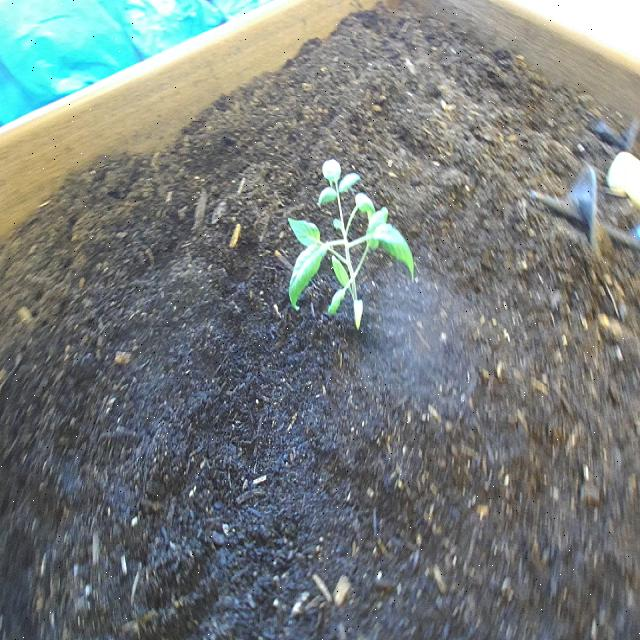Healthy: (282, 149, 418, 334)
